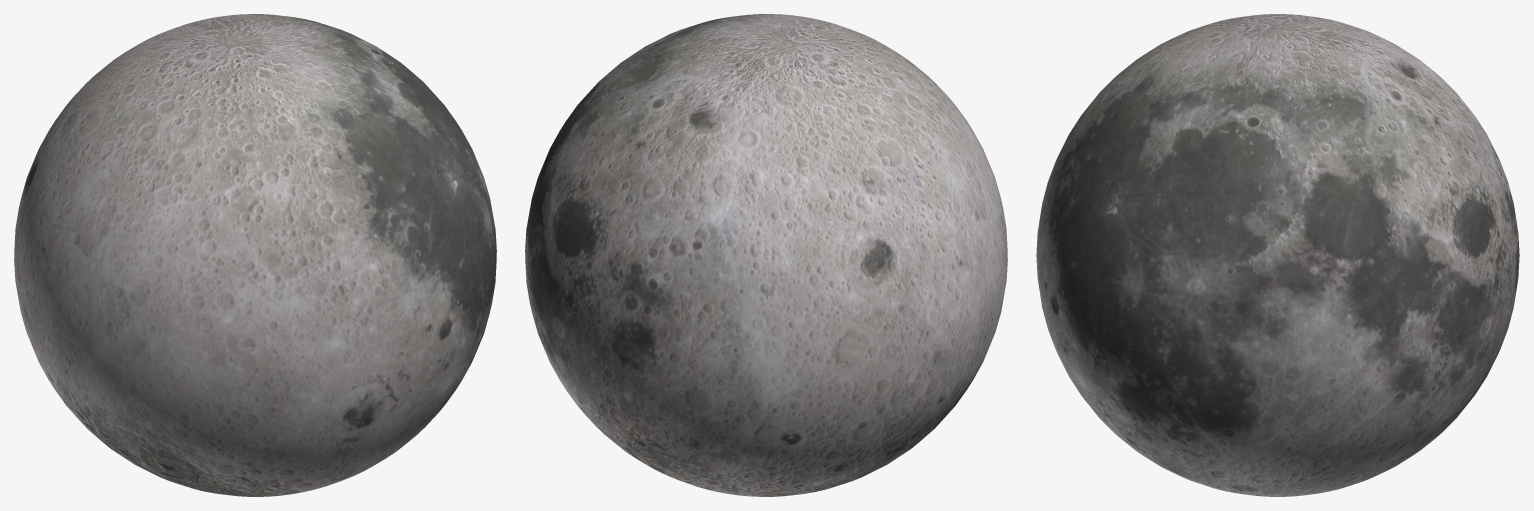
Rendered from moon.glb.
3 views of the same model, side by side, from view 1: azimuth 30°, elevation 25°; view 2: azimuth 150°, elevation 25°; view 3: azimuth 270°, elevation 25° (orthographic).
Parts seen in each view (by area): view 1: moon; view 2: moon; view 3: moon.
Boxes of the visible parts, x1=… form: moon: x1=14, y1=14, x2=496, y2=496; moon: x1=525, y1=14, x2=1007, y2=496; moon: x1=1036, y1=14, x2=1519, y2=496.
Size of the model in its own units: 0.2999 by 0.2999 by 0.3.
Materials: 1 (1 with a texture image).
